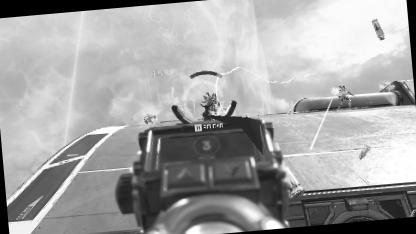Target: (199, 89, 224, 114), (336, 83, 351, 107), (142, 111, 156, 123)
